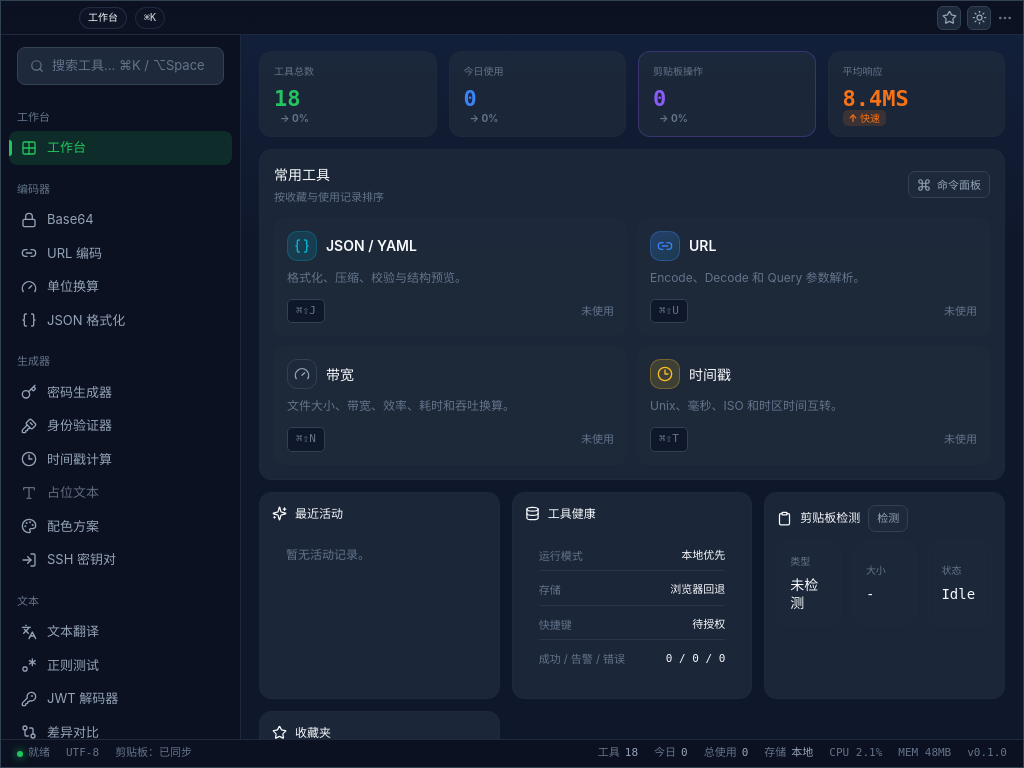
App shell › navigates to the regex tool
The image size is (1024, 768).
Click the link "正则测试" at (60, 665), box [21,656,99,673]
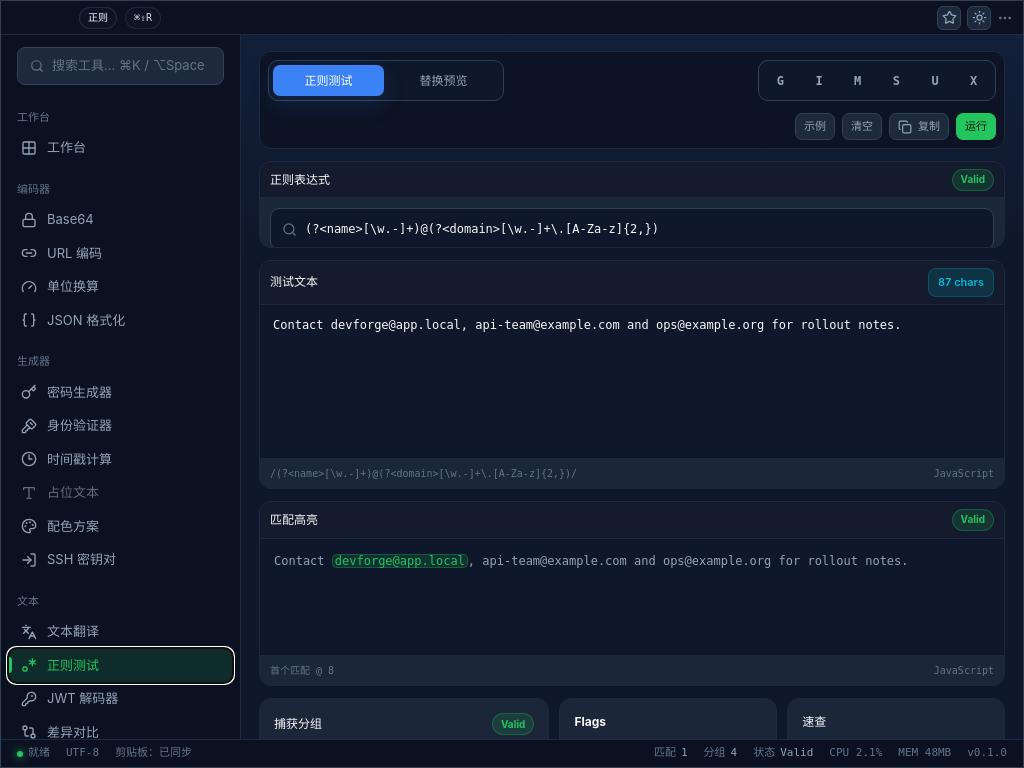
Now the text "匹配高亮" is shown, box [270,511,318,529]
Now the button "替换预览" is shown, box [388,65,499,96]
